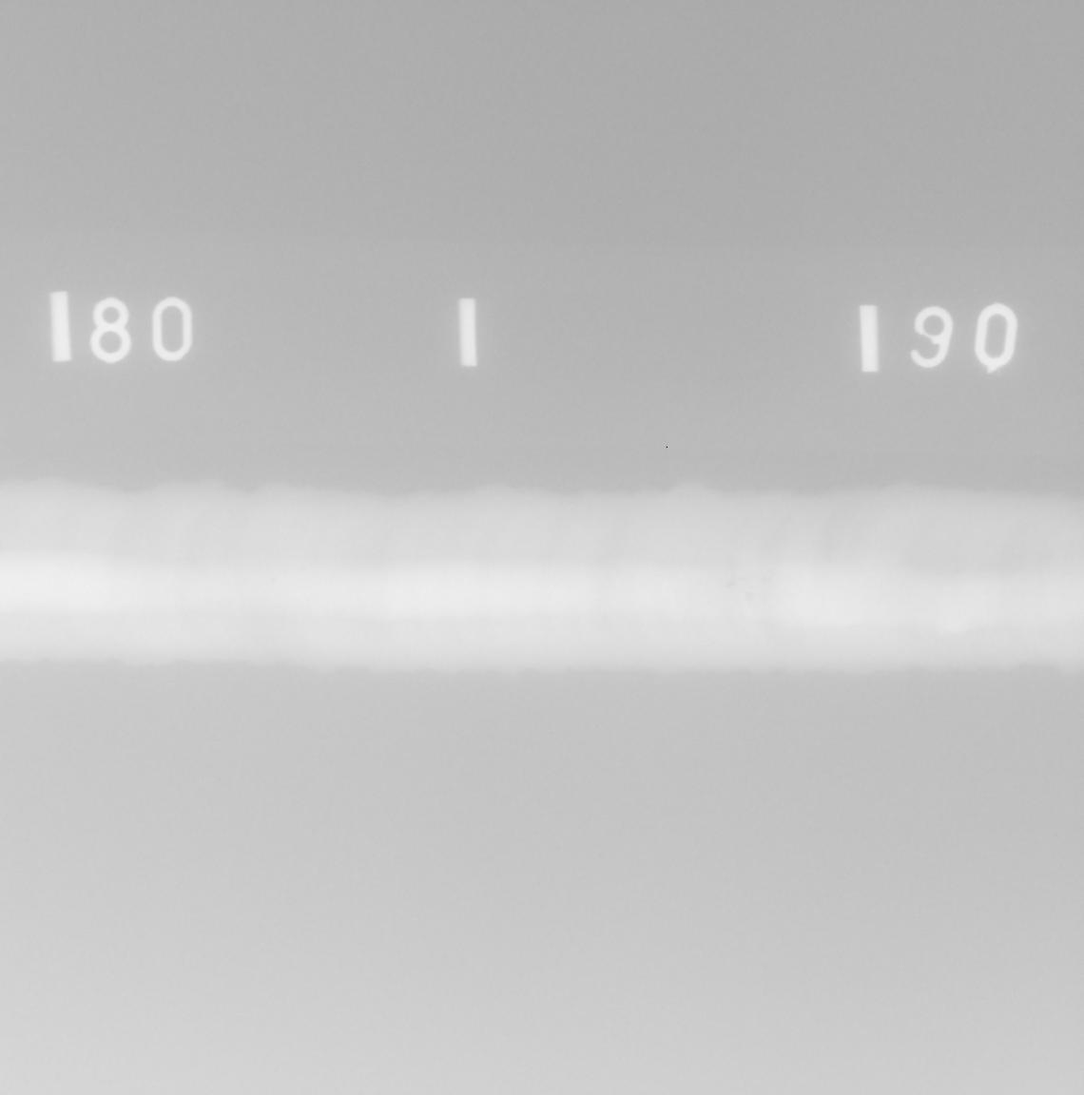Pore/Porosity: (726, 580, 735, 587), (728, 556, 735, 564), (745, 592, 752, 600), (761, 576, 770, 582), (741, 577, 754, 581), (762, 595, 766, 603), (271, 578, 275, 582), (707, 602, 710, 605)
